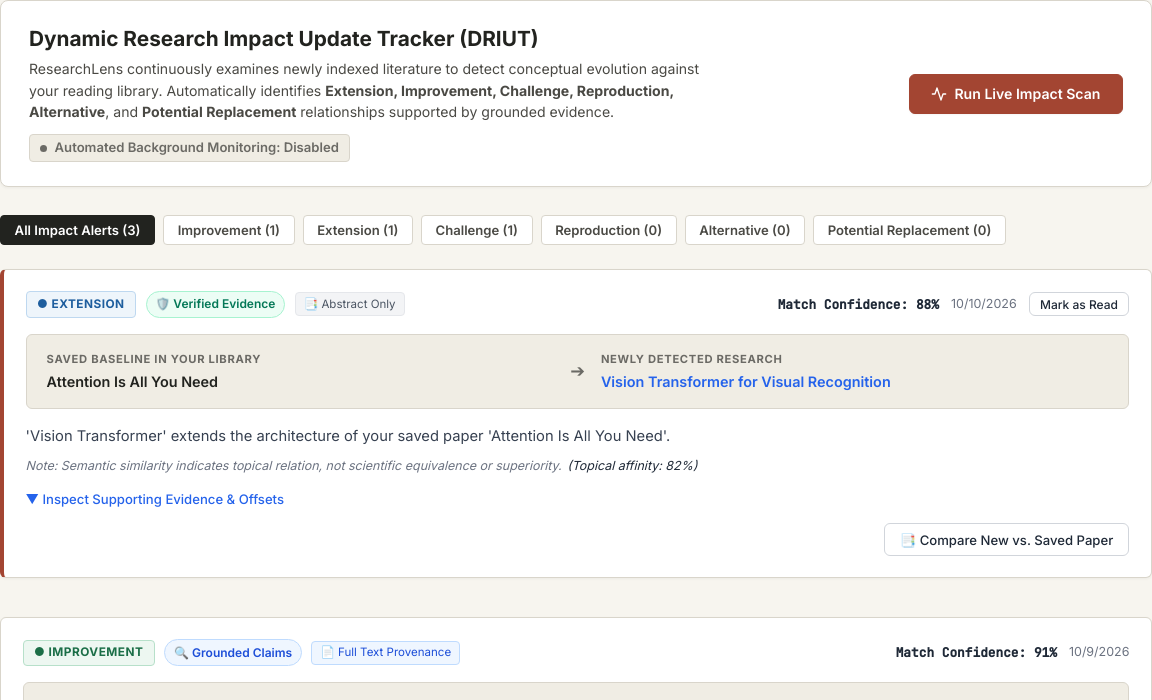
Scenario: DriutAlertsView Component › toggles expandable supporting evidence section with exact offsets
Check: the text "▼ Inspect Supporting Evidence & Offsets" is shown, box [26,492,284,508]
// Expand first alert
Click the button "▼ Inspect Supporting Evidence & Offsets".
click(155, 500)  # box [26,488,284,512]
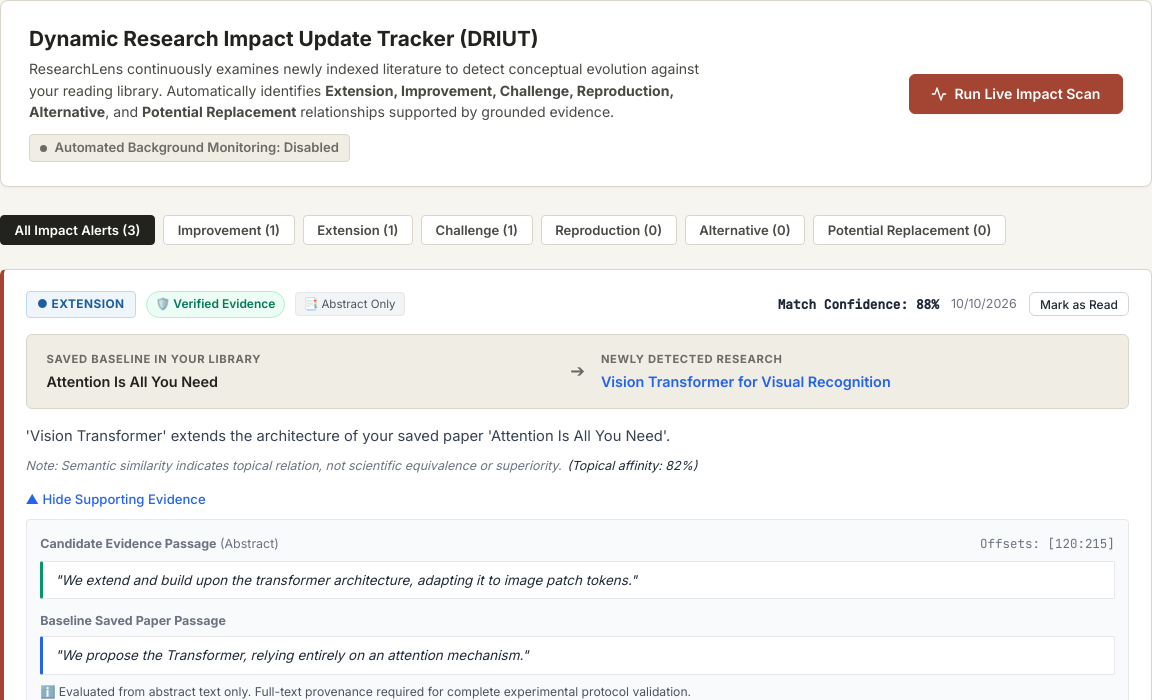
Check: the text "Candidate Evidence Passage" is shown, box [40,536,216,551]
Check: the text "Offsets: [120:215]" is shown, box [980,534,1115,553]
Check: the text "\"We extend and build upon the transformer architecture, adapting it to image patch tokens.\"" is shown, box [40,561,1115,599]
Click the button "▲ Hide Supporting Evidence".
click(116, 500)  # box [26,488,206,512]
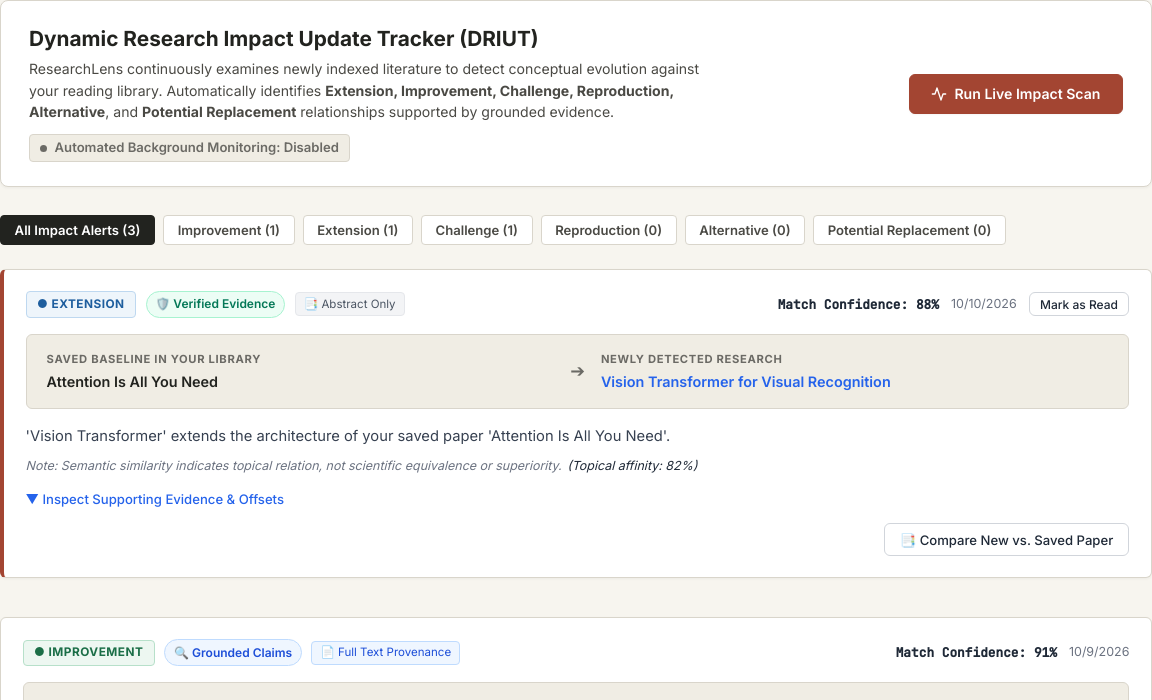
Check: the text "Offsets: [120:215]" is gone
